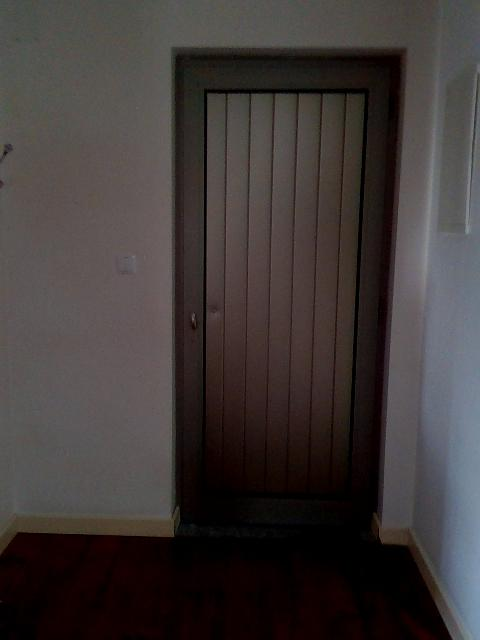closed_door: (164, 39, 405, 548)
